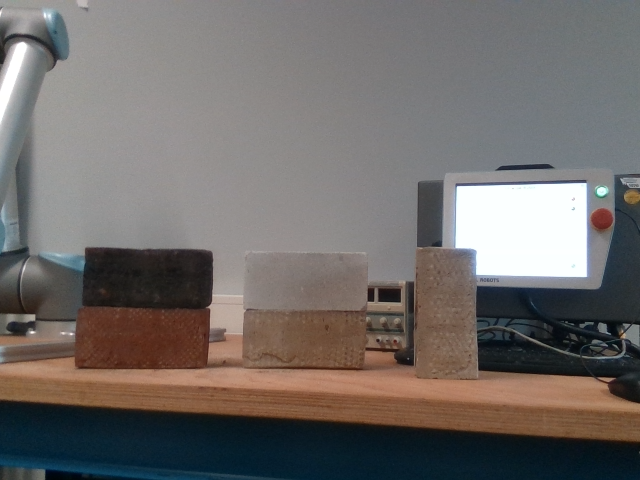brick: (77, 307, 209, 369), (414, 249, 476, 380), (83, 247, 213, 307), (244, 310, 365, 373), (243, 252, 368, 312)
